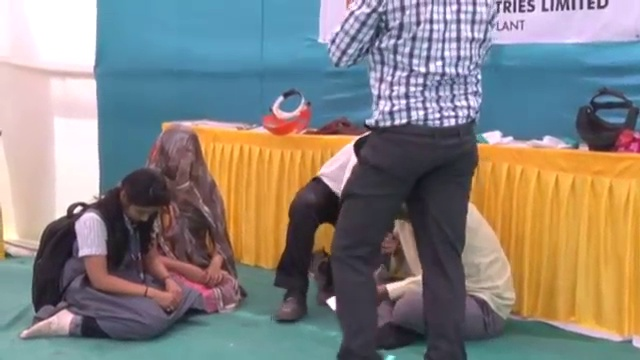helmet_off: (150, 127, 208, 189), (111, 171, 171, 226)
person: (327, 2, 501, 359), (21, 169, 198, 345), (268, 126, 376, 326), (136, 115, 239, 318), (378, 202, 516, 346)
